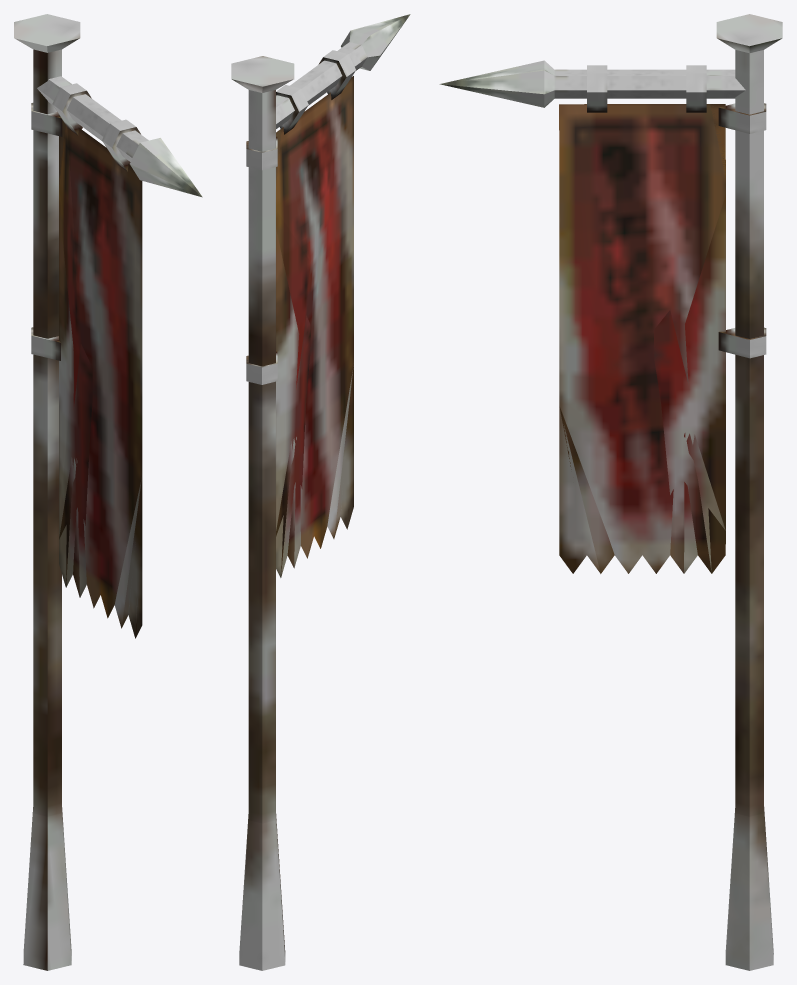
File: general_obj_flag.fbx
The picture shows the model from 3 angles, left to right: view 1: azimuth 30°, elevation 25°; view 2: azimuth 150°, elevation 25°; view 3: azimuth 270°, elevation 25°; orthographic projection. The views are drawn at different scales.
Visible parts, largest first — view 1: Object03; view 2: Object03; view 3: Object03.
Part boxes in pixels (x1,y1,x2,y2): Object03: (14, 14, 202, 970); Object03: (231, 14, 410, 970); Object03: (439, 14, 782, 970).
Bounding box in the file's own units: 0.27 × 3.63 × 1.22.
